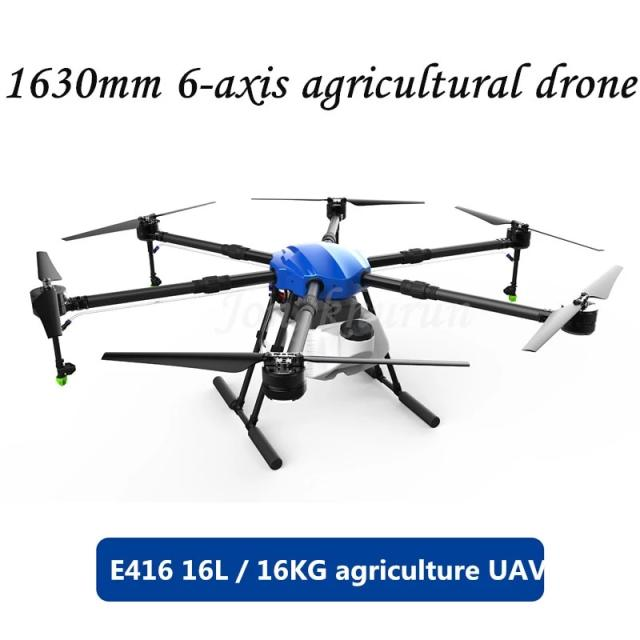drone: (0, 174, 640, 495)
